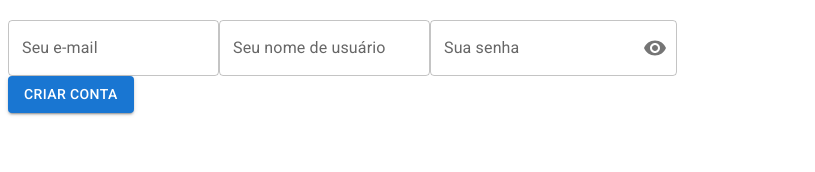
it: Create Account Form - account validation schema › username › renders inputs error messages when try submit form with username without min length
Type "us" into the field labelled "Seu nome de usuário" at coordinates (324, 48), box [219,20,430,76]
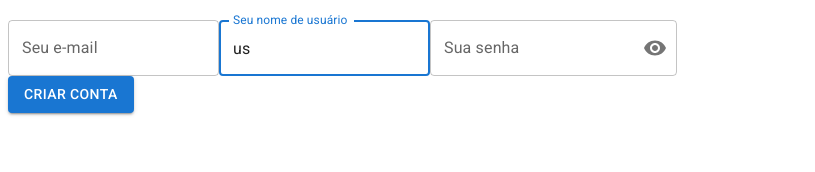
Click the button "Criar conta" at coordinates (71, 94), box [8,76,134,112]
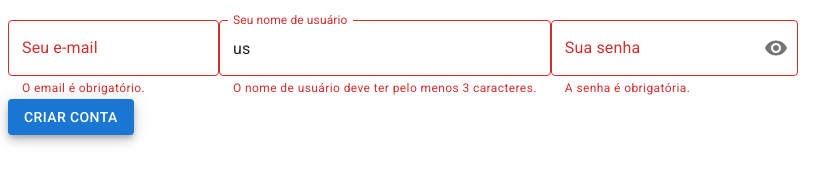
Result: the text "O nome de usuário deve ter pelo menos 3 caracteres." is shown at [233,79,537,99]
